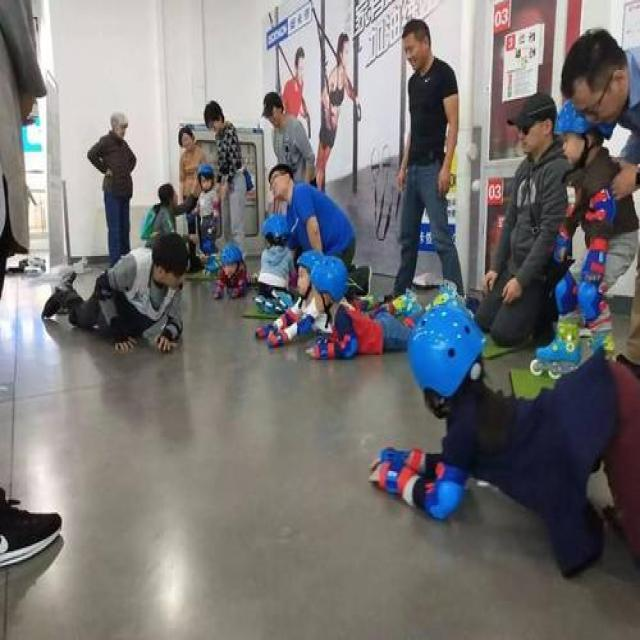10-: (0, 0, 639, 579)
down: (375, 306, 639, 570), (307, 254, 469, 360), (42, 237, 184, 352), (256, 253, 316, 348), (211, 244, 250, 302)
